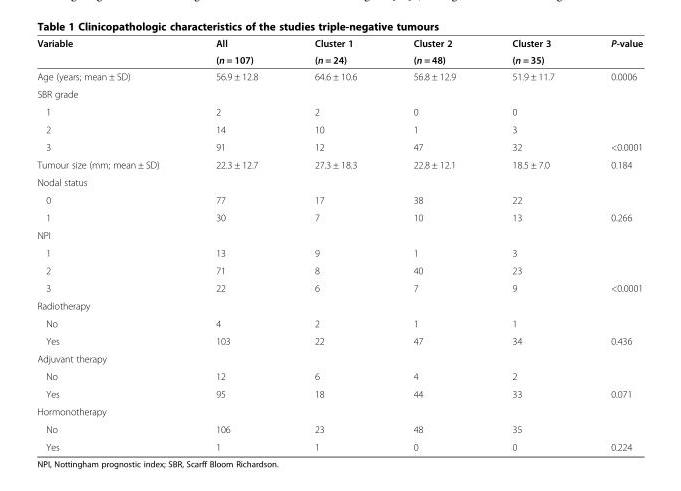table: (36, 37, 642, 452)
table column: (36, 37, 186, 452), (186, 37, 285, 452), (285, 37, 384, 452), (384, 37, 483, 452), (483, 37, 582, 452), (582, 37, 642, 452)
table column header: (36, 37, 642, 67)
table projected row header: (36, 84, 642, 102), (36, 296, 642, 314), (36, 349, 642, 367), (36, 402, 642, 420), (36, 173, 642, 190), (36, 226, 642, 243)
table row: (36, 84, 642, 102), (36, 102, 642, 120), (36, 137, 642, 155), (36, 155, 642, 173), (36, 190, 642, 208), (36, 208, 642, 226), (36, 243, 642, 261), (36, 278, 642, 296), (36, 296, 642, 314), (36, 331, 642, 349), (36, 349, 642, 367), (36, 384, 642, 402), (36, 402, 642, 420), (36, 67, 642, 84), (36, 120, 642, 137), (36, 173, 642, 190), (36, 226, 642, 243), (36, 261, 642, 278), (36, 314, 642, 331), (36, 367, 642, 384), (36, 420, 642, 437), (36, 51, 642, 67), (36, 437, 642, 452), (36, 37, 642, 51)
table spanning cell: (36, 37, 186, 67), (186, 37, 285, 67), (285, 37, 384, 67), (384, 37, 483, 67), (483, 37, 582, 67), (582, 37, 642, 67)
